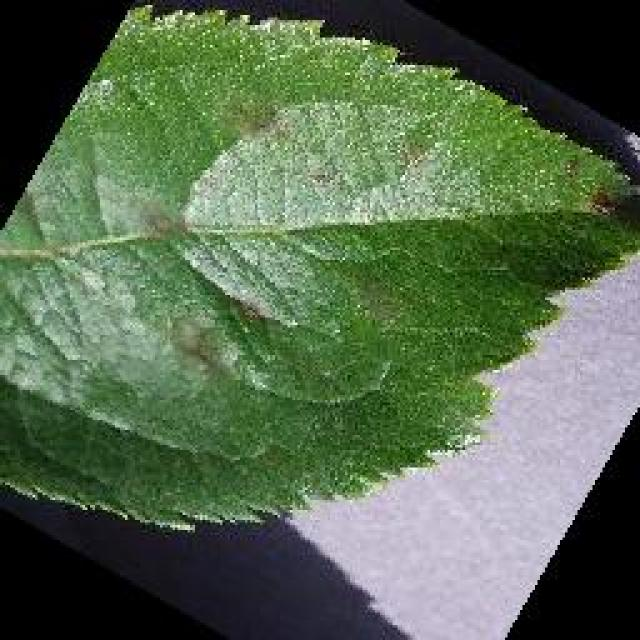apple scab disease: (0, 0, 637, 532)
